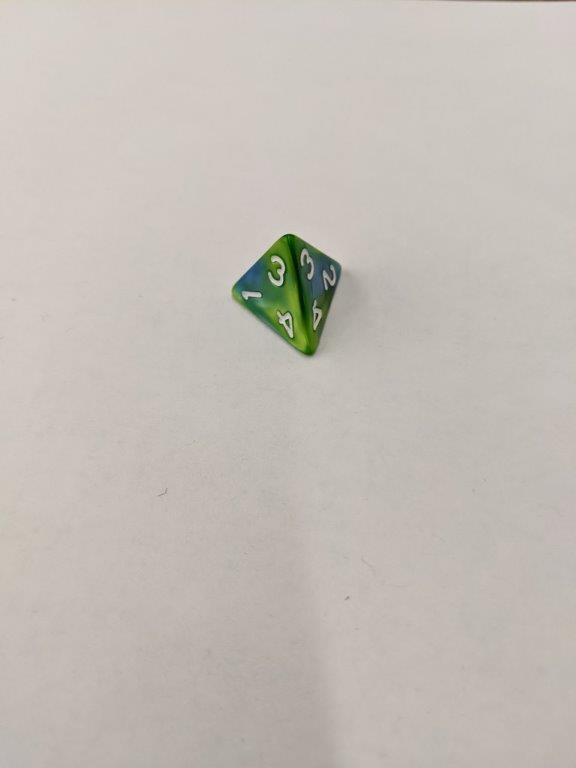d4-3: (227, 231, 345, 357)
